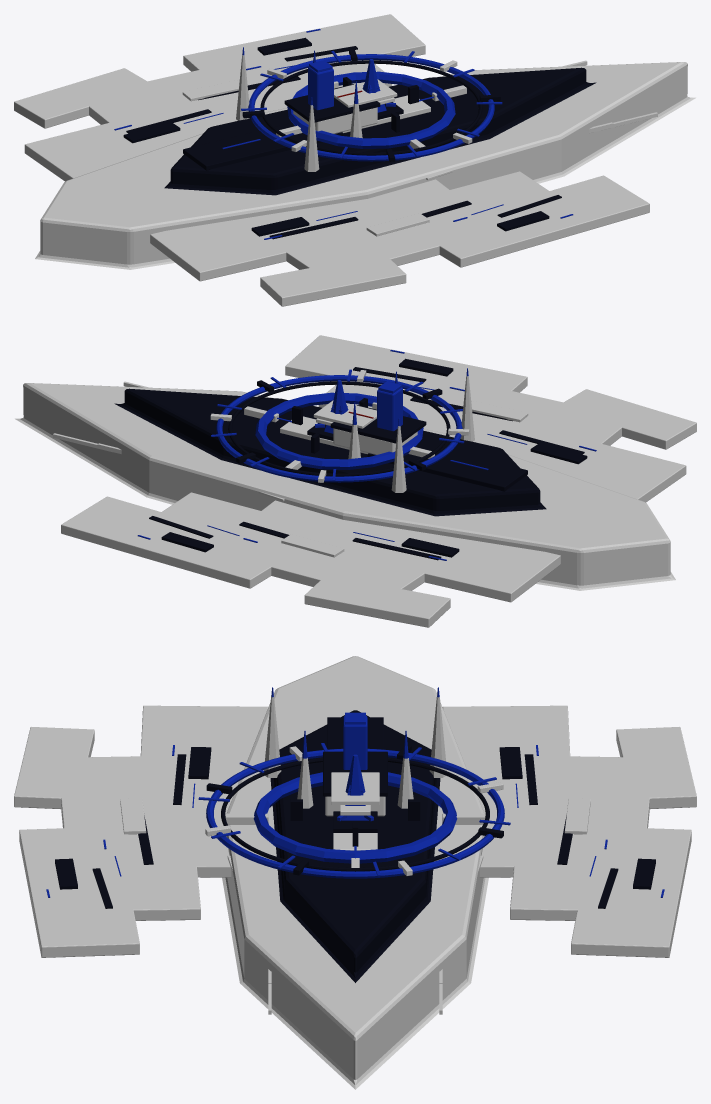
The model's file is destiny_lord_mid_stage9_refined_A.obj.
3 renders of one model, top to bottom at view 1: azimuth 30°, elevation 25°; view 2: azimuth 150°, elevation 25°; view 3: azimuth 270°, elevation 25°, orthographic. The views are drawn at different scales.
Visible parts, largest first — view 1: DL_Main_Hull, DL_Upper_Armor, DL_Starboard_Wing_Stable_Plate_1, DL_Starboard_Wing_Stable_Plate_0, DL_Port_Wing_Stable_Plate_0, DL_Port_Wing_Stable_Plate_1, DL_Starboard_Wing_Stable_Plate_2, DL_Port_Wing_Stable_Plate_2, DL_Starboard_Wing_Stable_Plate_3, DL_Port_Wing_Stable_Plate_3, DL_Fate_Ring, DL_Fate_Ring_Outer (+15 smaller); view 2: DL_Main_Hull, DL_Upper_Armor, DL_Port_Wing_Stable_Plate_1, DL_Port_Wing_Stable_Plate_0, DL_Starboard_Wing_Stable_Plate_1, DL_Starboard_Wing_Stable_Plate_0, DL_Port_Wing_Stable_Plate_2, DL_Starboard_Wing_Stable_Plate_2, DL_Port_Wing_Stable_Plate_3, DL_Starboard_Wing_Stable_Plate_3, DL_Fate_Ring, DL_Fate_Ring_Outer (+15 smaller); view 3: DL_Main_Hull, DL_Port_Wing_Stable_Plate_1, DL_Upper_Armor, DL_Starboard_Wing_Stable_Plate_1, DL_Starboard_Wing_Stable_Plate_0, DL_Port_Wing_Stable_Plate_0, DL_Starboard_Wing_Stable_Plate_2, DL_Port_Wing_Stable_Plate_2, DL_Fate_Ring, DL_Starboard_Wing_Stable_Plate_3, DL_Port_Wing_Stable_Plate_3, DL_Fate_Ring_Outer (+12 smaller).
Part boxes in pixels (x1,y1,x2,y2): DL_Main_Hull: (35, 62, 695, 269); DL_Upper_Armor: (164, 67, 596, 195); DL_Starboard_Wing_Stable_Plate_1: (268, 171, 575, 276); DL_Starboard_Wing_Stable_Plate_0: (150, 179, 472, 281); DL_Port_Wing_Stable_Plate_0: (24, 80, 305, 181); DL_Port_Wing_Stable_Plate_1: (78, 38, 392, 128); DL_Starboard_Wing_Stable_Plate_2: (416, 175, 649, 267); DL_Port_Wing_Stable_Plate_2: (183, 14, 425, 84); DL_Starboard_Wing_Stable_Plate_3: (260, 254, 406, 306); DL_Port_Wing_Stable_Plate_3: (14, 68, 153, 128); DL_Fate_Ring: (287, 71, 455, 148); DL_Fate_Ring_Outer: (248, 54, 494, 161); DL_Main_Hull: (15, 383, 675, 590); DL_Upper_Armor: (114, 388, 546, 516); DL_Port_Wing_Stable_Plate_1: (135, 492, 442, 592); DL_Port_Wing_Stable_Plate_0: (238, 500, 560, 602); DL_Starboard_Wing_Stable_Plate_1: (318, 359, 629, 455); DL_Starboard_Wing_Stable_Plate_0: (405, 401, 686, 502); DL_Port_Wing_Stable_Plate_2: (61, 496, 291, 588); DL_Starboard_Wing_Stable_Plate_2: (285, 335, 527, 405); DL_Port_Wing_Stable_Plate_3: (304, 575, 450, 627); DL_Starboard_Wing_Stable_Plate_3: (556, 389, 696, 449); DL_Fate_Ring: (255, 392, 423, 469); DL_Fate_Ring_Outer: (216, 375, 462, 482); DL_Main_Hull: (222, 656, 488, 1089); DL_Port_Wing_Stable_Plate_1: (510, 755, 652, 920); DL_Upper_Armor: (270, 710, 440, 982); DL_Starboard_Wing_Stable_Plate_1: (58, 755, 200, 920); DL_Starboard_Wing_Stable_Plate_0: (139, 705, 268, 877); DL_Port_Wing_Stable_Plate_0: (442, 705, 571, 877); DL_Starboard_Wing_Stable_Plate_2: (19, 826, 139, 957); DL_Port_Wing_Stable_Plate_2: (571, 826, 691, 957); DL_Fate_Ring: (253, 772, 457, 863); DL_Starboard_Wing_Stable_Plate_3: (14, 727, 94, 809); DL_Port_Wing_Stable_Plate_3: (616, 727, 696, 809); DL_Fate_Ring_Outer: (206, 748, 504, 878).
Size of the model in its own units: 91.72 by 16.85 by 67.59.
